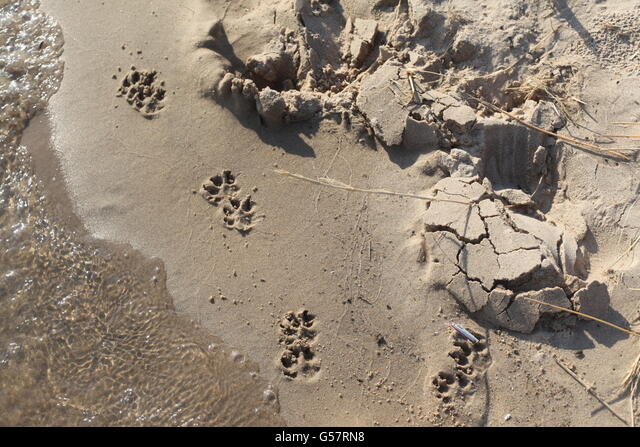chien: (198, 169, 262, 233), (276, 308, 322, 384)
